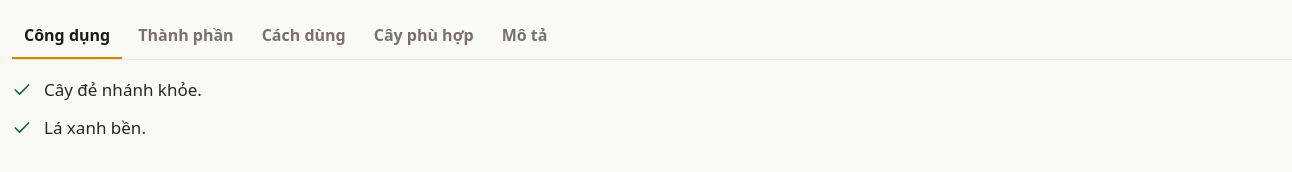
Test case: ProductTabs › bấm tab → hiện nội dung tab đó; mỗi dòng công dụng/cách dùng là một mục
The width and height of the screenshot is (1292, 172).
Expected: the list items read "Cây đẻ nhánh khỏe.", "Lá xanh bền.", in this order, [12,78,202,101]; [12,116,146,139]
Click the tab "Cây phù hợp".
click(424, 36)  # box [362,12,486,60]
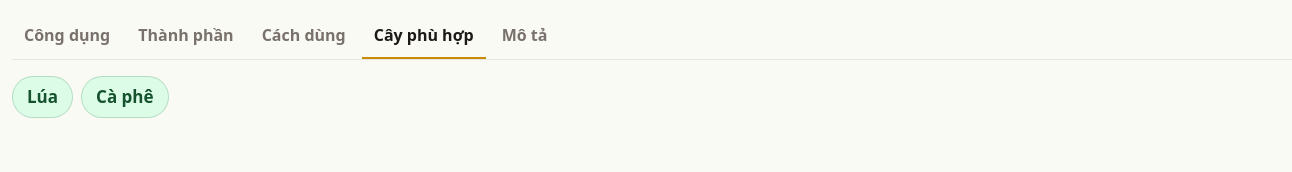
Now the panel shows "Cà phê", box [96,85,154,108]
Click the tab "Cách dùng".
click(304, 36)  # box [250,12,358,60]
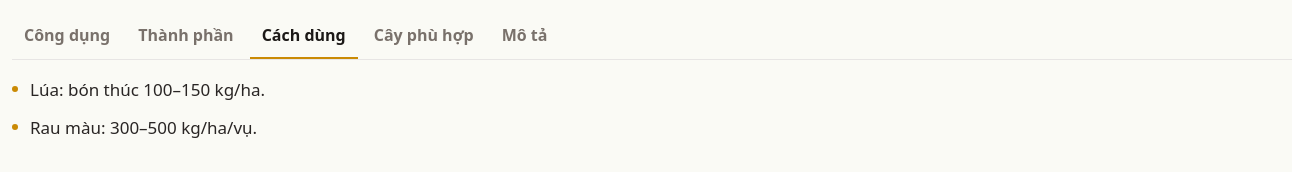
Now the number of list items is 2, box [12,78,265,101]; [12,116,257,139]
